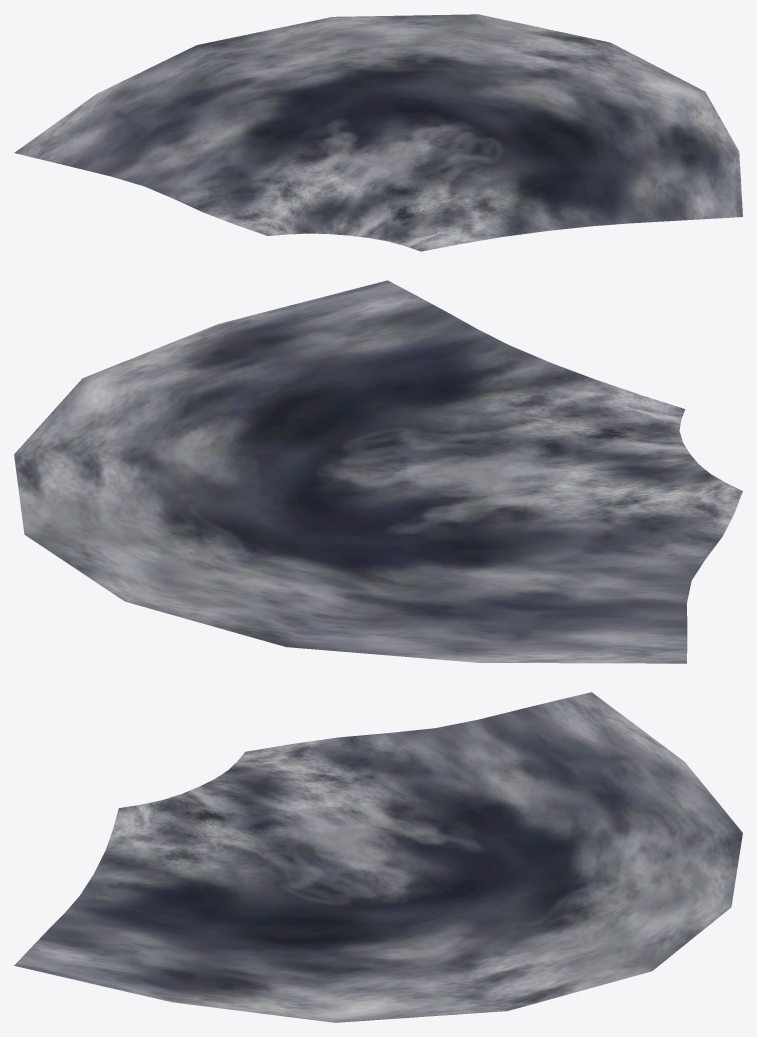
Rendered from CB_NEWPLAYSURFACE_CB_WATERFALLS14.fbx.
3 views of the same model, one above another, from view 1: azimuth 30°, elevation 25°; view 2: azimuth 150°, elevation 25°; view 3: azimuth 270°, elevation 25° (orthographic). The views are drawn at different scales.
Visible parts, largest first — view 1: CB_NEWPLAYSURFACE_CB_WATERFALLS14; view 2: CB_NEWPLAYSURFACE_CB_WATERFALLS14; view 3: CB_NEWPLAYSURFACE_CB_WATERFALLS14.
Part boxes in pixels (x1=…): CB_NEWPLAYSURFACE_CB_WATERFALLS14: x1=14, y1=14, x2=742, y2=251; CB_NEWPLAYSURFACE_CB_WATERFALLS14: x1=14, y1=280, x2=742, y2=663; CB_NEWPLAYSURFACE_CB_WATERFALLS14: x1=14, y1=692, x2=742, y2=1022.
Size of the model in its own units: 162699 by 1594 by 151584.
Materials: 1 (1 with a texture image).
